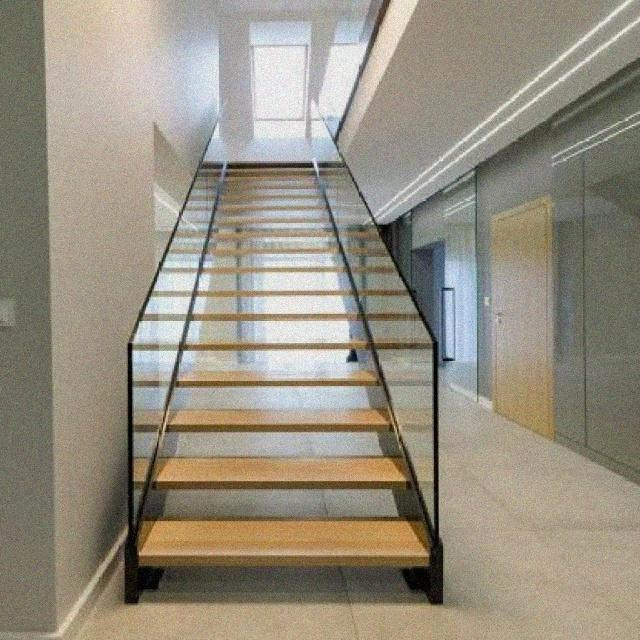stair: (58, 88, 432, 602)
